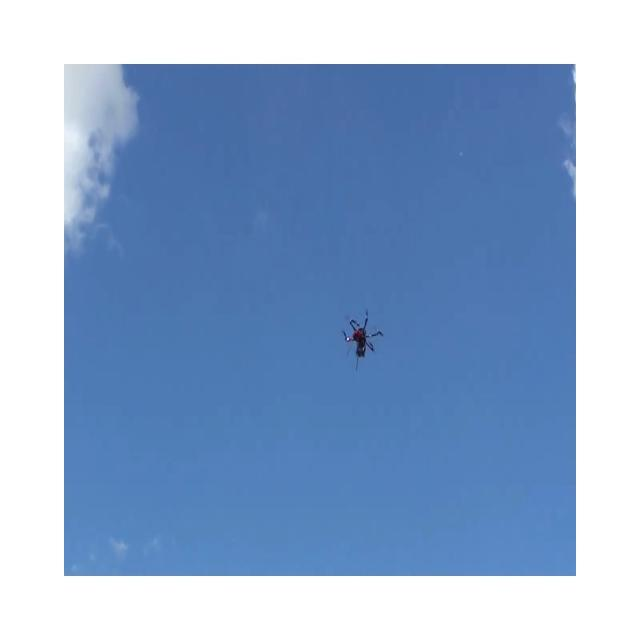drone: (342, 308, 383, 371)
